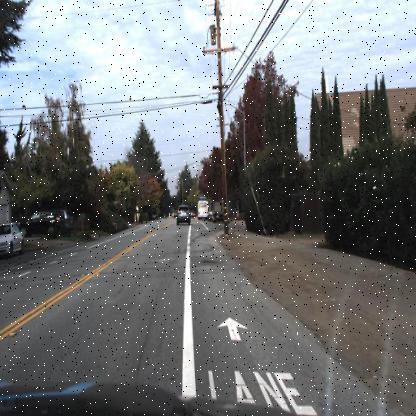car: (20, 212, 62, 239), (0, 221, 25, 258), (174, 203, 191, 231), (210, 201, 230, 224), (54, 210, 74, 232), (59, 208, 74, 236), (195, 198, 211, 224)
